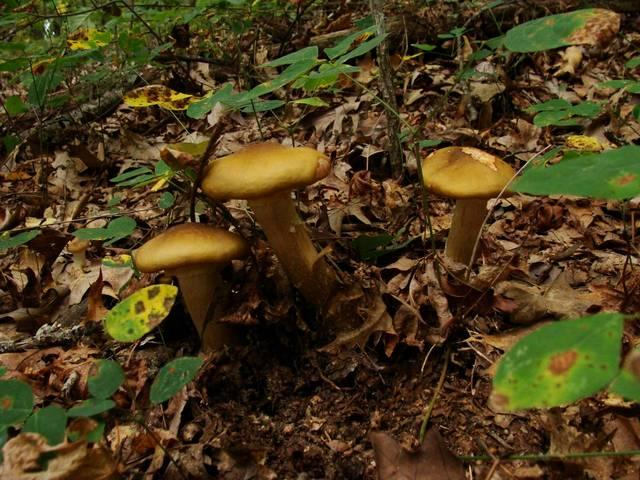Edible Mushroom: (198, 140, 339, 307), (132, 221, 249, 352), (420, 144, 517, 278)
